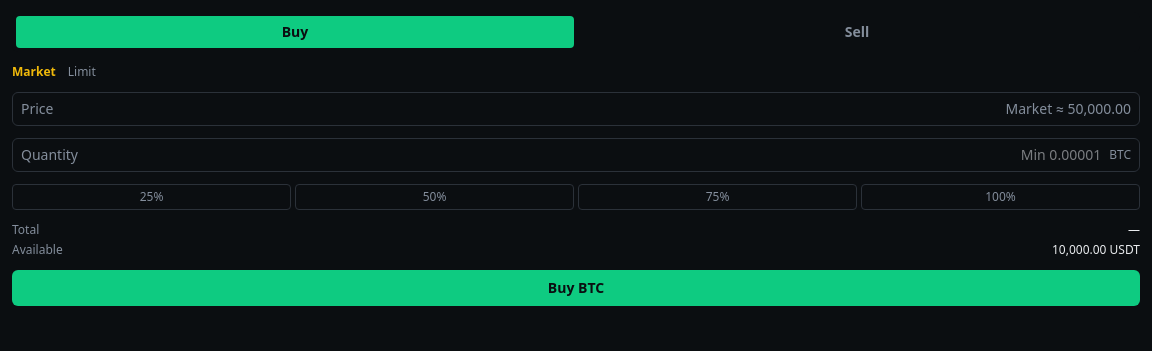
Test: OrderForm › ignores letters typed into the quantity box
Step 1. Type "1a.b5" into the field labelled "Quantity BTC" → (594, 155), box [86,145,1101,165]
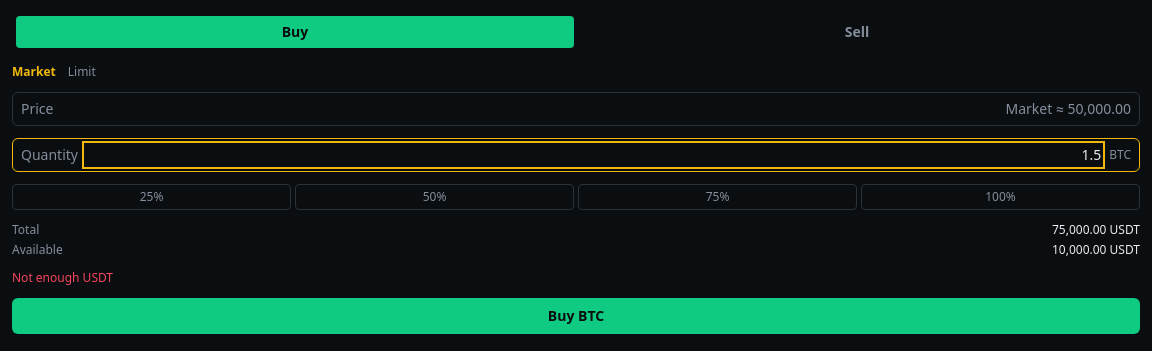
Check: the field labelled "Quantity BTC" holds "1.5", box [86,145,1101,165]
